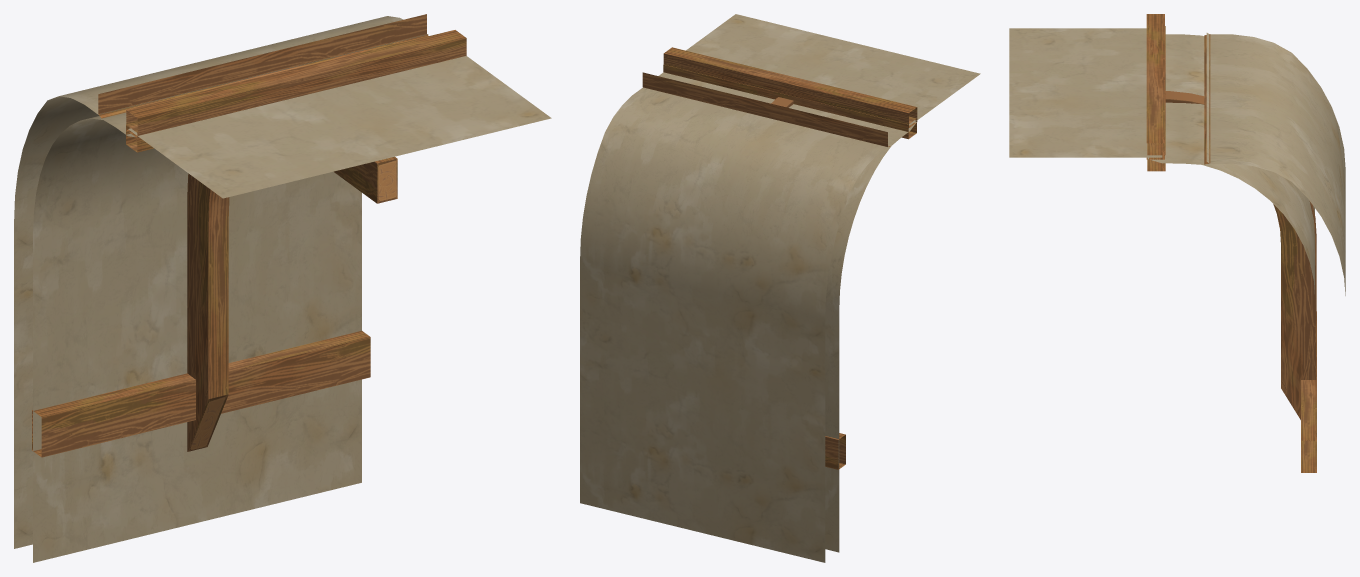
Rendered from Overhang_Plaster_Long.gltf.
3 views of the same model, side by side, from view 1: azimuth 30°, elevation 25°; view 2: azimuth 150°, elevation 25°; view 3: azimuth 270°, elevation 25° (orthographic). The views are drawn at different scales.
Visible parts, largest first — view 1: Overhang_Plaster_Long; view 2: Overhang_Plaster_Long; view 3: Overhang_Plaster_Long.
Boxes of the visible parts, box(x1,y1,x2,y2) form: Overhang_Plaster_Long: box(14, 14, 551, 562); Overhang_Plaster_Long: box(580, 14, 980, 562); Overhang_Plaster_Long: box(1009, 14, 1345, 472).
Size of the model in its own units: 2 by 3.03 by 2.2.
Materials: 2 (2 with a texture image).
